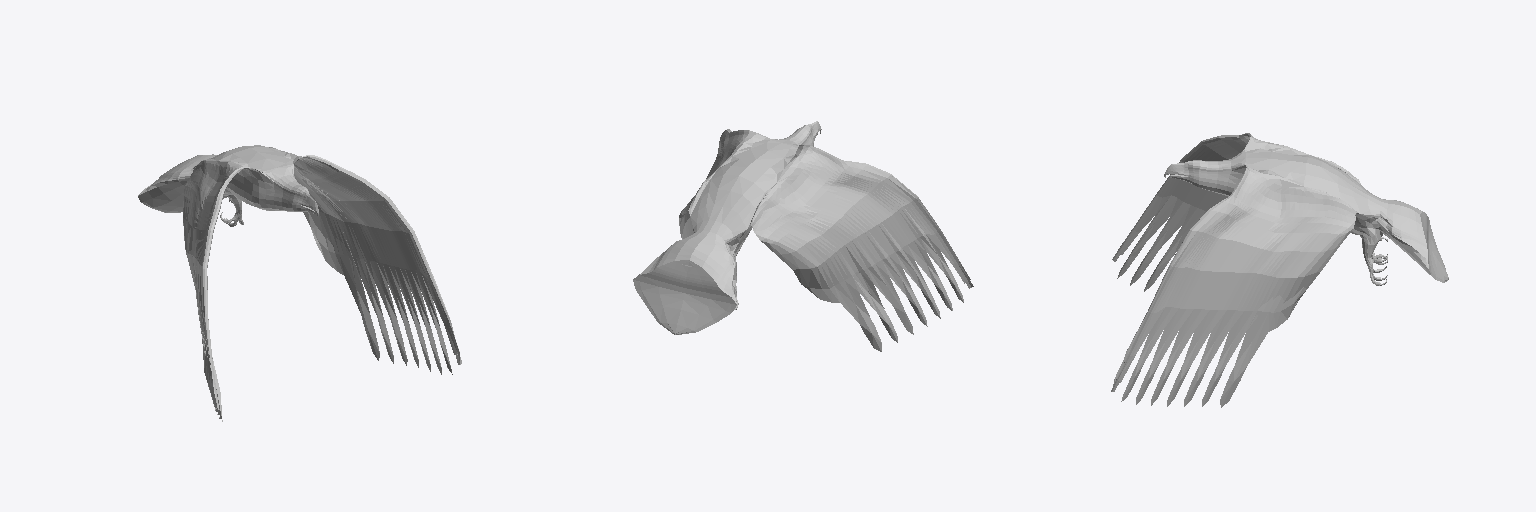
The model's file is Eagle-original_000069.obj.
The picture shows the model from 3 angles: view 1: azimuth 30°, elevation 25°; view 2: azimuth 150°, elevation 25°; view 3: azimuth 270°, elevation 25°; orthographic projection.
Visible parts, largest first — view 1: Flugel_Plane.003; view 2: Flugel_Plane.003; view 3: Flugel_Plane.003.
Boxes of the visible parts, <box> form: Flugel_Plane.003: <box>138,145,461,421</box>; Flugel_Plane.003: <box>633,121,973,351</box>; Flugel_Plane.003: <box>1111,133,1448,407</box>.
Bounding box in the file's own units: 5.5 × 4.59 × 6.6.